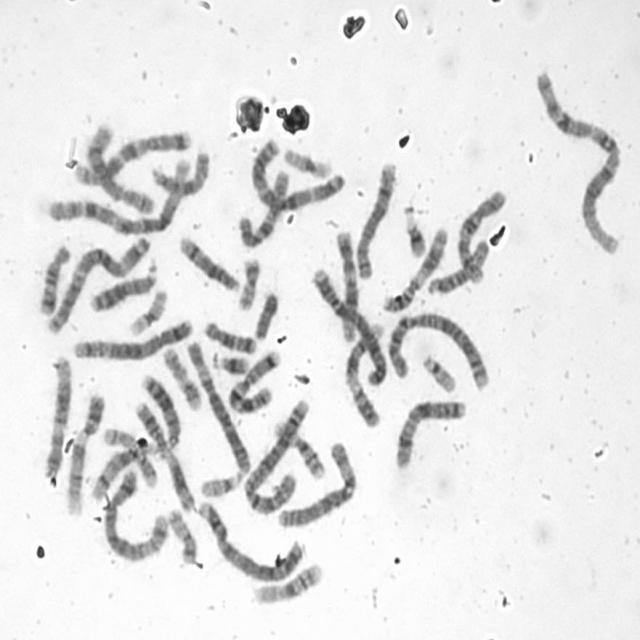A1: (530, 63, 624, 257), (45, 149, 194, 236)
A2: (380, 306, 492, 392), (239, 391, 312, 516)
A3: (41, 230, 154, 336), (246, 133, 346, 213)
B4: (306, 260, 388, 389), (193, 494, 305, 583)
B5: (97, 465, 171, 563), (69, 311, 196, 362)
C10: (451, 183, 509, 287), (232, 163, 293, 250)
C11: (129, 395, 196, 515), (378, 220, 451, 314)
C12: (37, 349, 73, 479), (330, 225, 359, 342)
C6: (181, 334, 252, 476), (272, 434, 360, 530)
C7: (69, 124, 194, 187), (223, 344, 283, 415)
C8: (82, 117, 156, 218), (350, 155, 399, 281)
C9: (60, 387, 107, 517), (340, 314, 390, 428)
D13: (84, 256, 159, 313), (136, 367, 182, 450)
D14: (85, 435, 161, 503), (174, 228, 241, 293)
D15: (422, 234, 490, 297), (146, 144, 211, 198)
E16: (267, 412, 327, 482), (249, 556, 325, 606)
E17: (97, 422, 159, 491), (157, 340, 204, 412)
E18: (32, 237, 72, 317), (199, 314, 258, 355)
F19: (123, 282, 170, 338), (279, 140, 335, 180)
F20: (162, 501, 199, 565), (232, 250, 262, 312)
G21: (398, 200, 429, 260), (207, 346, 251, 376)
G22: (416, 348, 458, 394), (196, 464, 244, 499)
X: (389, 392, 468, 471)
Y: (248, 284, 280, 342)
